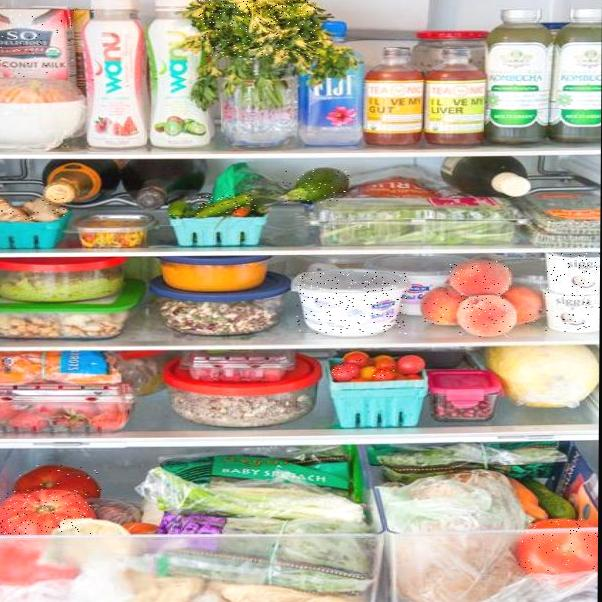courgettes: (281, 169, 349, 203)
ginger: (25, 198, 66, 220), (0, 199, 28, 218)
green chilies: (197, 194, 256, 214), (169, 198, 191, 216)
milk: (0, 5, 75, 82)
parsley: (199, 0, 320, 59)
peach: (459, 295, 517, 337), (450, 261, 511, 296), (423, 289, 461, 326), (508, 287, 544, 324)
tomato: (518, 518, 598, 572), (0, 490, 92, 534), (19, 465, 103, 495), (397, 356, 423, 374), (331, 363, 360, 379), (346, 351, 367, 367), (372, 366, 396, 379)
yoghurt: (296, 273, 407, 334), (547, 253, 600, 294), (545, 293, 600, 332)
